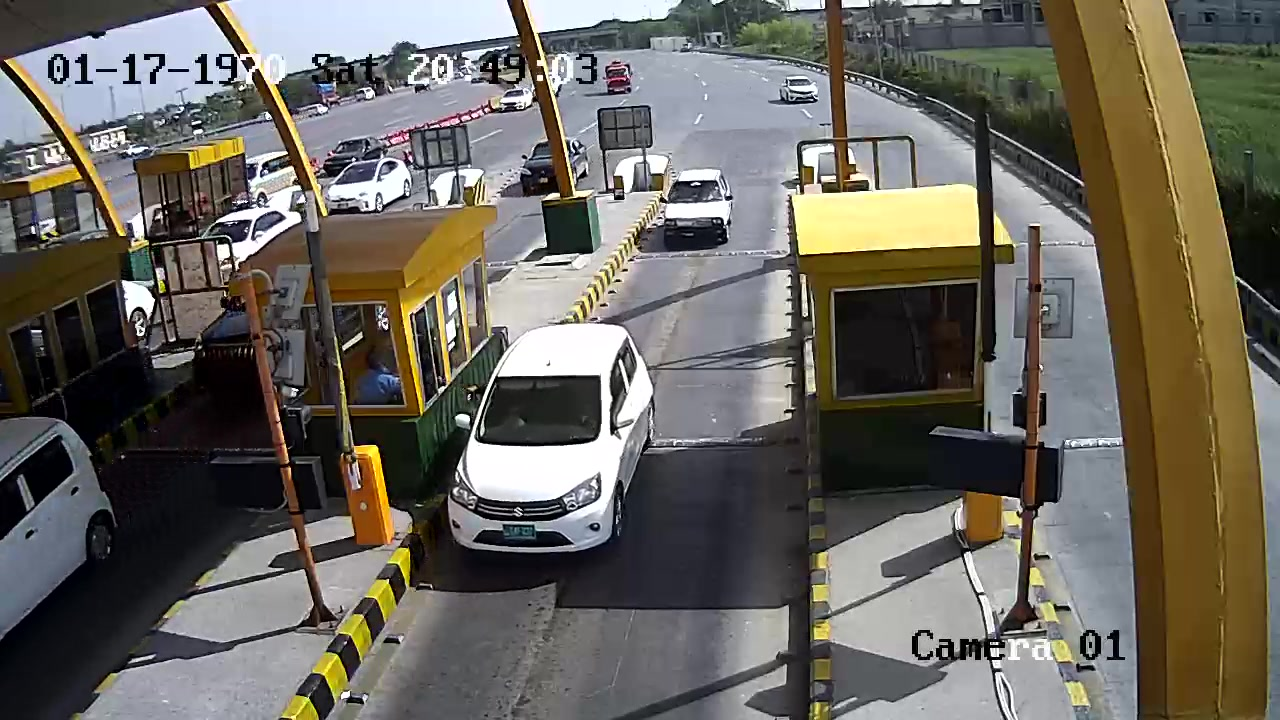F1: (444, 316, 671, 553)
